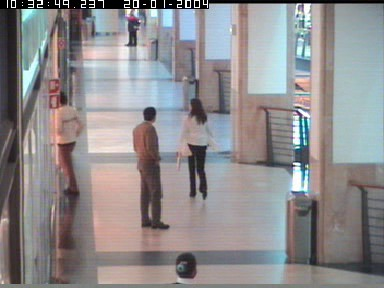person: (175, 98, 221, 200), (132, 106, 169, 230), (58, 91, 84, 197), (172, 252, 197, 284), (125, 10, 141, 46)
